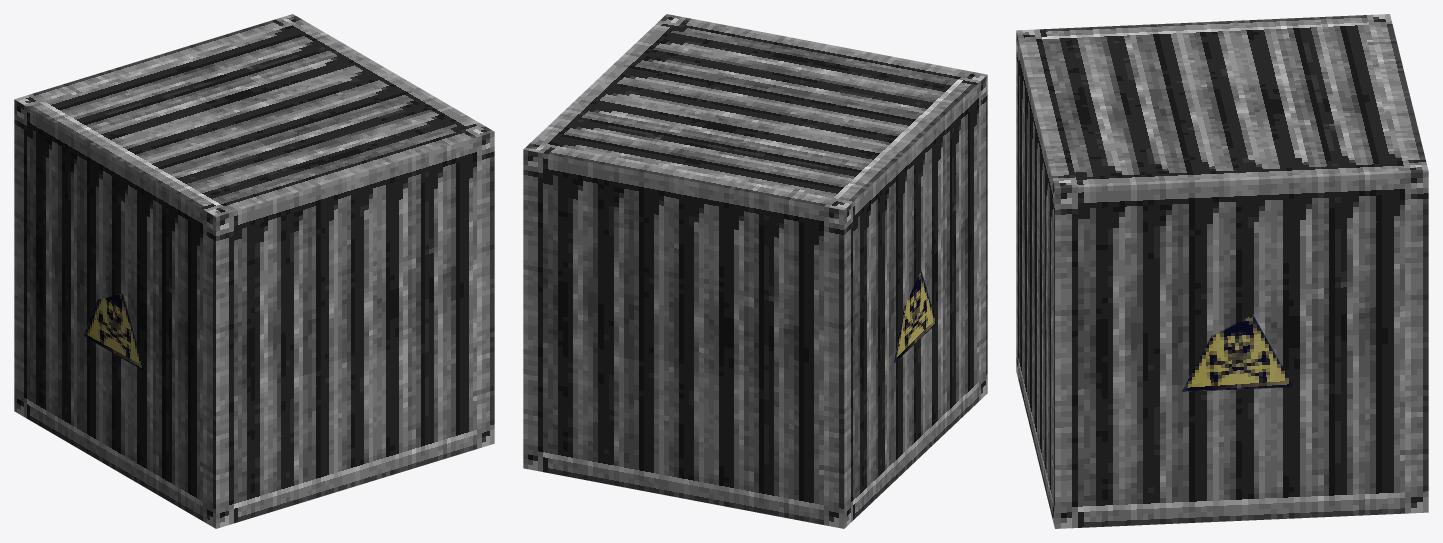
File: primary_060.glb
3 views of the same model, side by side, from view 1: azimuth 30°, elevation 25°; view 2: azimuth 150°, elevation 25°; view 3: azimuth 270°, elevation 25° (orthographic). The views are drawn at different scales.
Visible parts, largest first — view 1: Object; view 2: Object; view 3: Object.
Boxes of the visible parts, x1,y1,x2,y2 form: Object: (14,14,494,528); Object: (523,14,987,528); Object: (1016,14,1428,528).
Size of the model in its own units: 1.3 by 1.18 by 1.3.
Materials: 2 (2 with a texture image).
